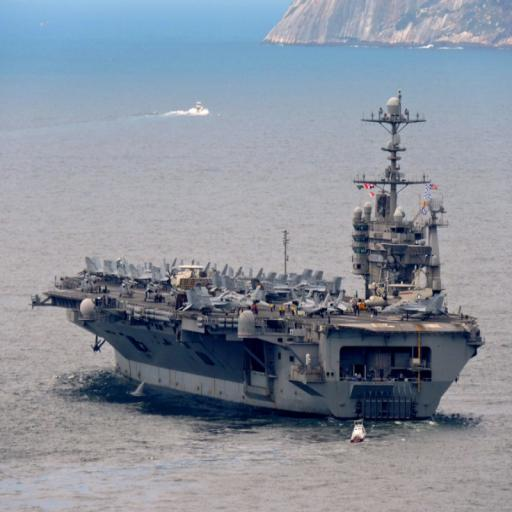Portanaves: (26, 86, 486, 441)
